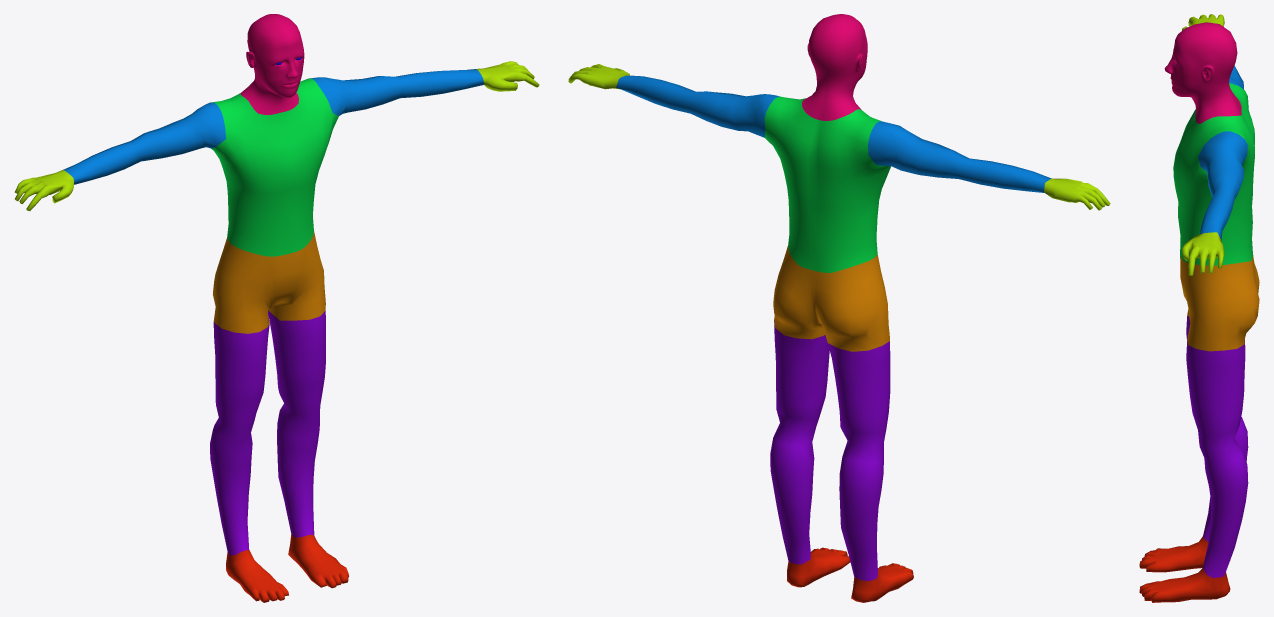
The model's file is Zombie Mid Poly.fbx.
3 views of the same model, side by side, from view 1: azimuth 30°, elevation 25°; view 2: azimuth 150°, elevation 25°; view 3: azimuth 270°, elevation 25° (orthographic). The views are drawn at different scales.
Visible parts, largest first — view 1: Zombie Mid Poly; view 2: Zombie Mid Poly; view 3: Zombie Mid Poly.
Boxes of the visible parts, bbox=[...] form: Zombie Mid Poly: bbox=[14, 14, 539, 602]; Zombie Mid Poly: bbox=[568, 14, 1110, 602]; Zombie Mid Poly: bbox=[1139, 14, 1259, 602].
Bounding box in the file's own units: 177 × 182 × 35.55.
